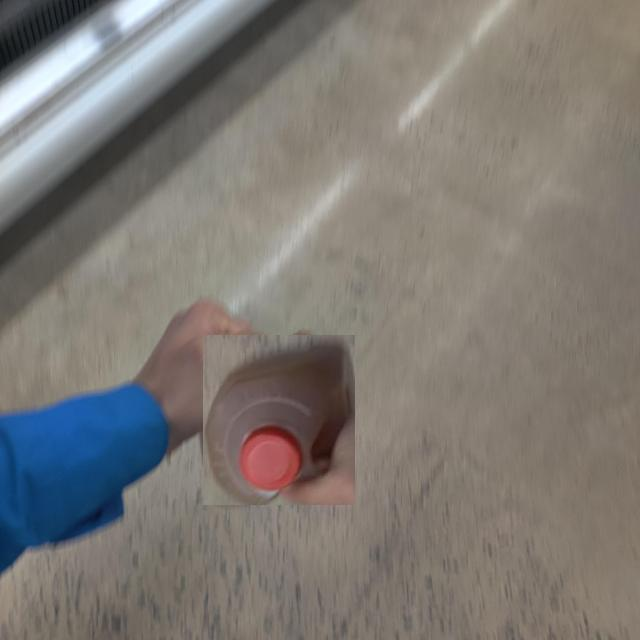Juice: (202, 335, 355, 505)
